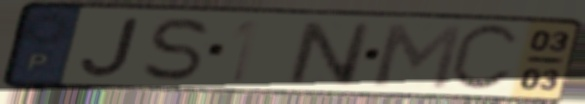1: (230, 19, 261, 83)
C: (444, 21, 524, 94)
J: (76, 15, 143, 80)
M: (369, 20, 467, 91)
N: (285, 18, 374, 88)
S: (138, 15, 213, 83)
